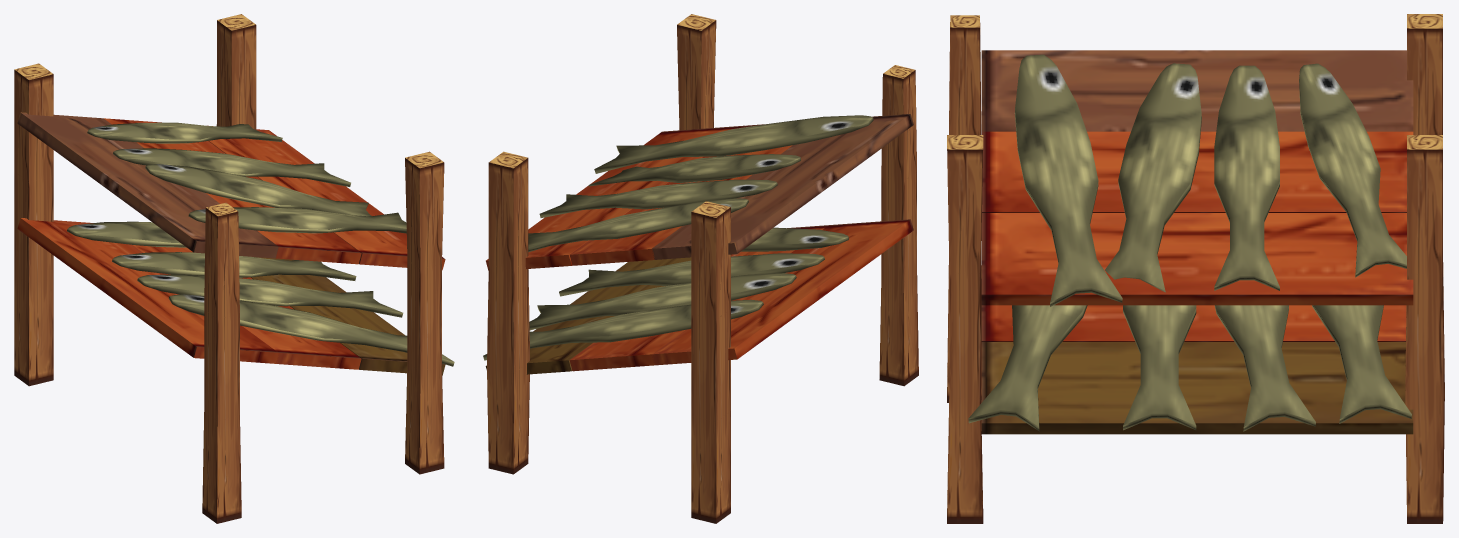
The model's file is Fish1.FBX.
The picture shows the model from 3 angles, left to right: view 1: azimuth 30°, elevation 25°; view 2: azimuth 150°, elevation 25°; view 3: azimuth 270°, elevation 25°; orthographic projection. The views are drawn at different scales.
Parts seen in each view (by area): view 1: Box012; view 2: Box012; view 3: Box012.
Boxes of the visible parts, x1=… form: Box012: x1=14, y1=14, x2=454, y2=523; Box012: x1=483, y1=14, x2=918, y2=523; Box012: x1=947, y1=14, x2=1444, y2=523.
Bounding box in the file's own units: 36.01 × 39.06 × 47.07.
